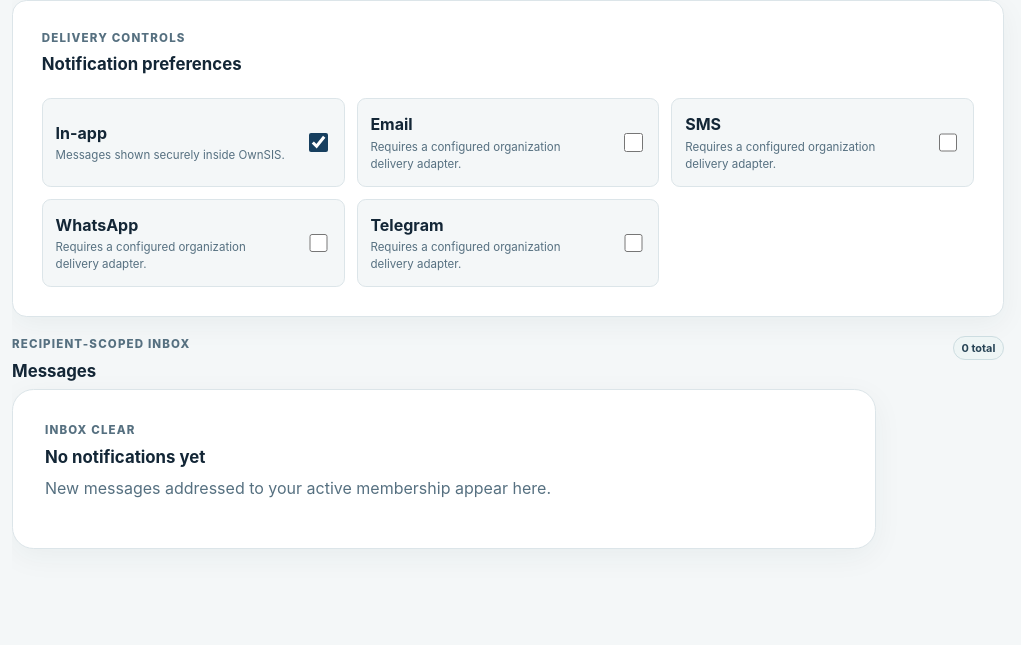
NotificationCenter › updates recipient-owned preferences with CSRF and tenant context
Click the checkbox named "Email notifications".
click(633, 143)  # box [624,134,643,152]
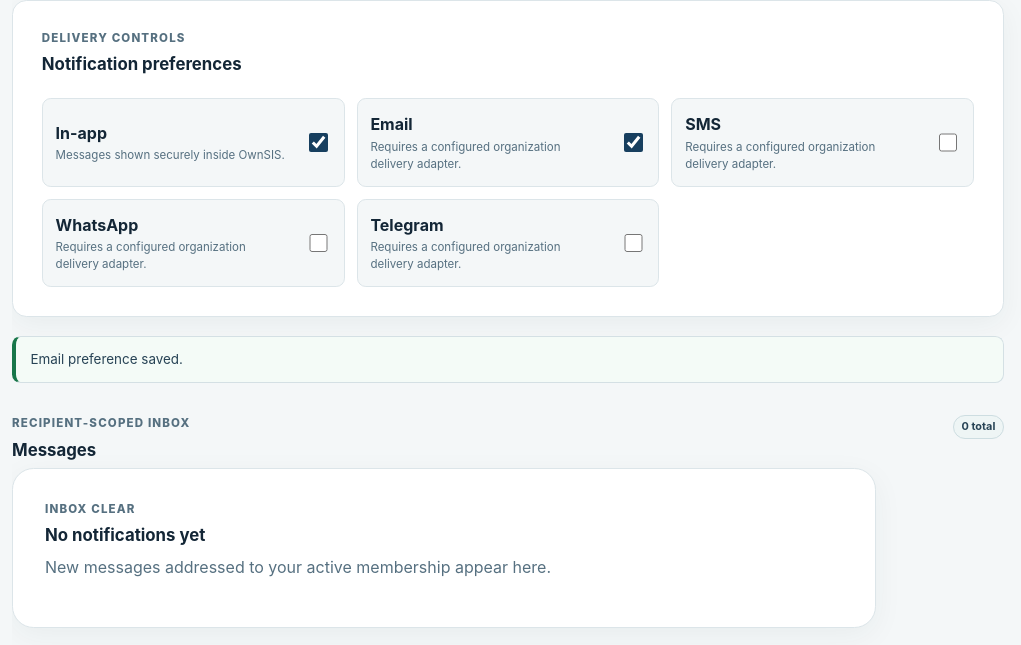
Check: the text "Email preference saved." is shown, box [12,336,1004,383]
